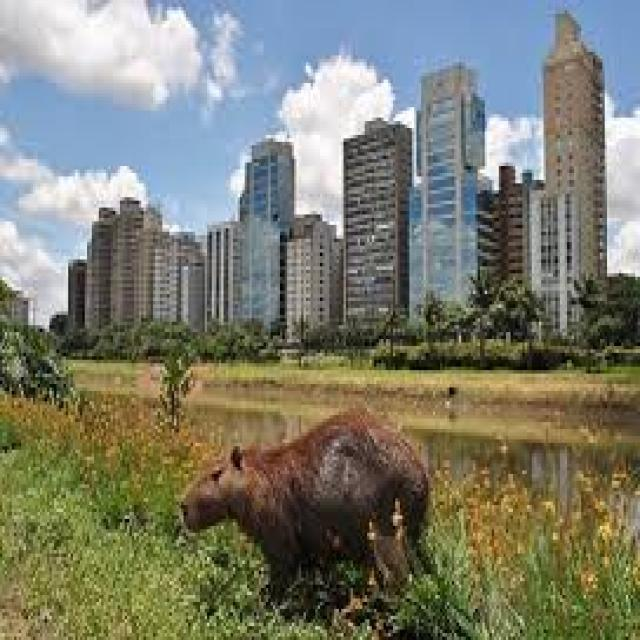capy: (178, 409, 431, 611)
